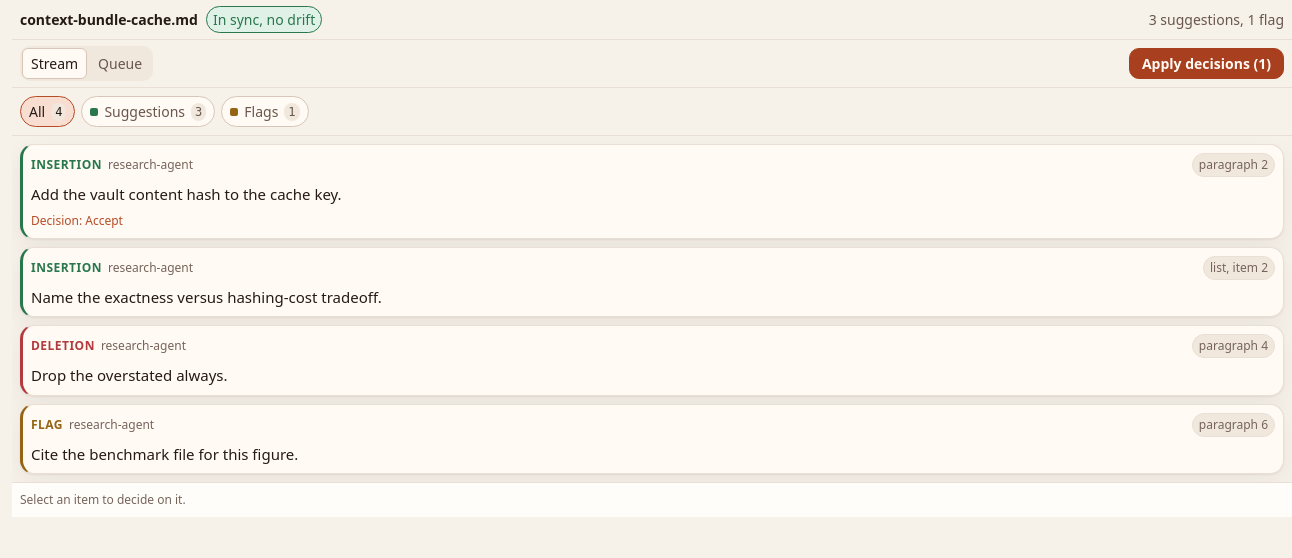
Test case: ReviewPanel › does not mention blocked items for an initial transport error
Check: the text "Add the vault content hash to the cache key." is shown, box [31,184,342,204]
Click the button "Apply decisions (1)": coordinates (1206, 64) [1129,48,1284,79]
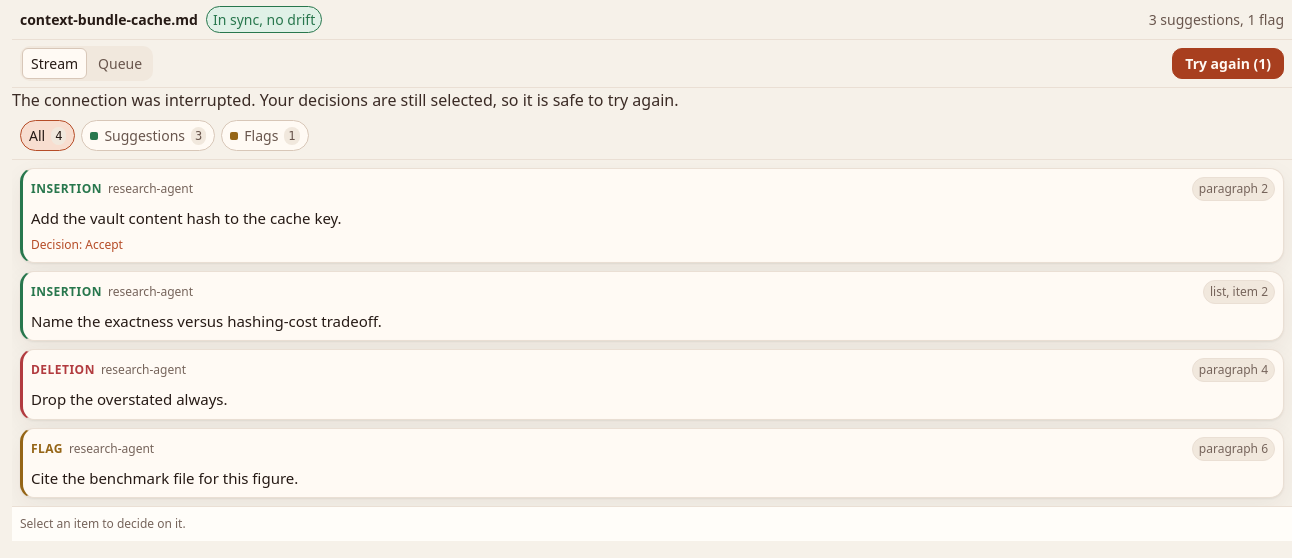
Check: the text "The connection was interrupted. Your decisions are still selected, so it is safe to try again." is shown, box [12,89,678,111]
